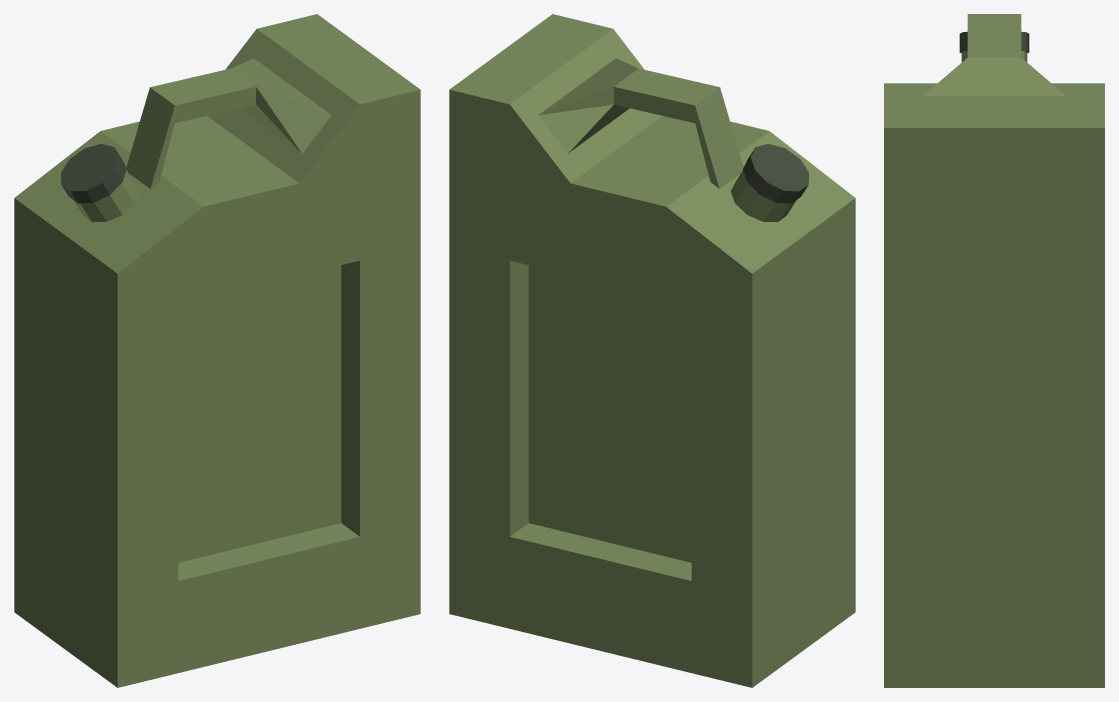
File: Fuel.fbx
The picture shows the model from 3 angles, left to right: view 1: azimuth 30°, elevation 25°; view 2: azimuth 150°, elevation 25°; view 3: azimuth 270°, elevation 25°; orthographic projection. The views are drawn at different scales.
Visible parts, largest first — view 1: Cube, Disc, Tube; view 2: Cube, Disc, Tube; view 3: Cube, Disc.
Part boxes in pixels (<box>): Cube: <box>14,14,420,687</box>; Disc: <box>61,144,126,203</box>; Tube: <box>73,170,139,222</box>; Cube: <box>449,14,855,687</box>; Disc: <box>743,144,808,203</box>; Tube: <box>730,170,796,222</box>; Cube: <box>884,14,1104,687</box>; Disc: <box>959,31,1029,52</box>.
Bounding box in the file's own units: 72.77 × 122 × 42.99.
